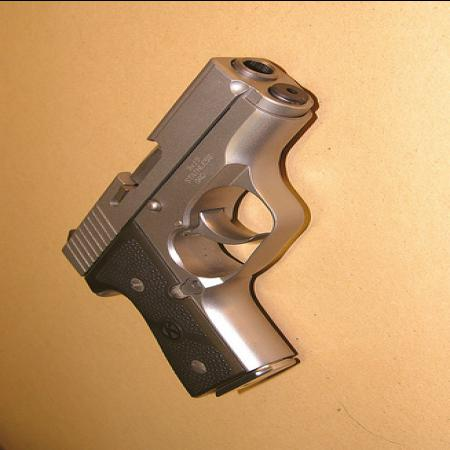Pistol: (62, 56, 315, 399)
